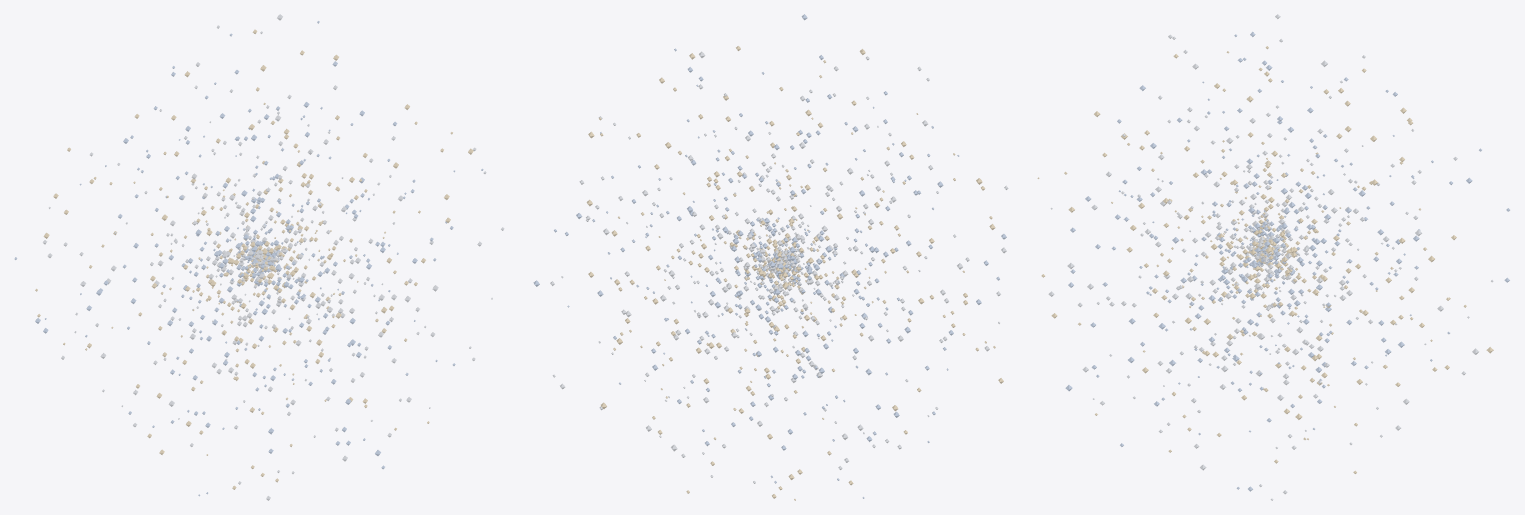
3 views of the same model, side by side, from view 1: azimuth 30°, elevation 25°; view 2: azimuth 150°, elevation 25°; view 3: azimuth 270°, elevation 25° (orthographic). The views are drawn at different scales.
Bounding box in the file's own units: 5.02 × 5 × 4.92.
